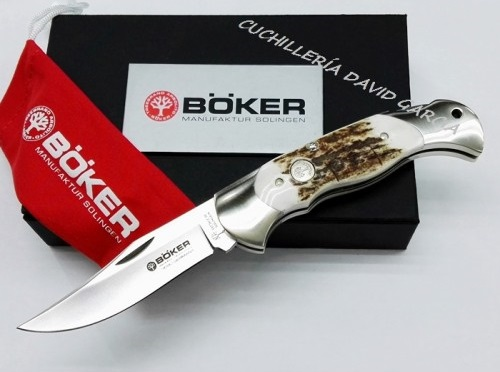knife: (6, 187, 251, 337)
